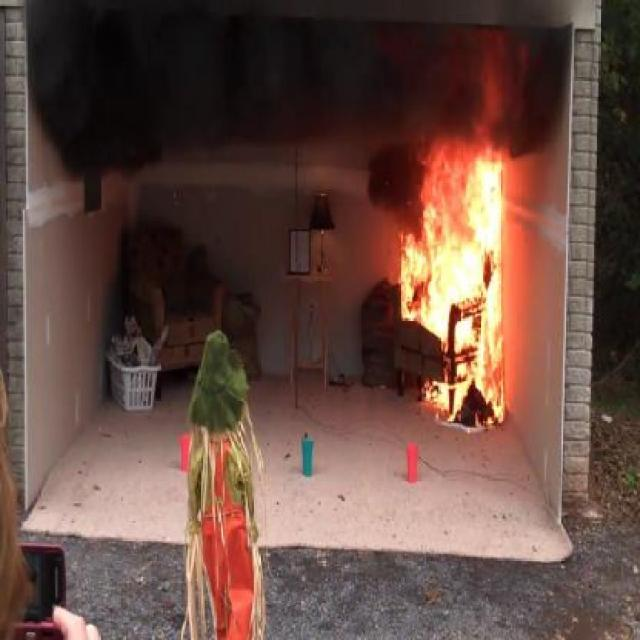fire: (378, 140, 537, 408)
smoke: (82, 36, 340, 170)
